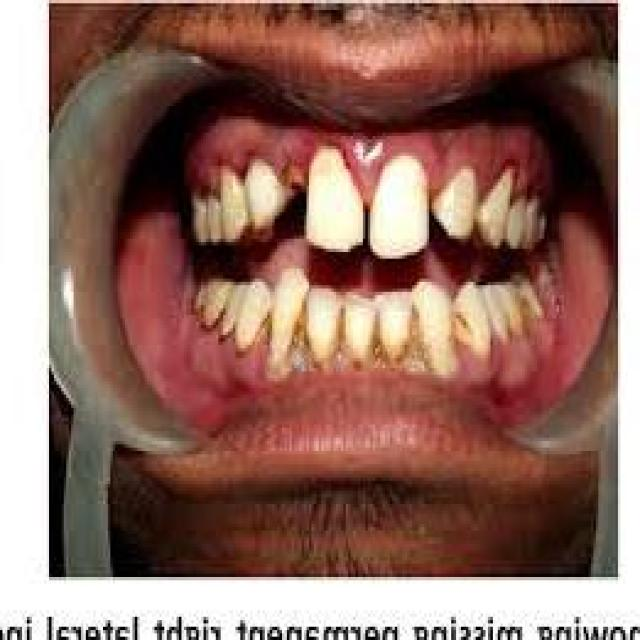caries: (274, 157, 311, 206)
